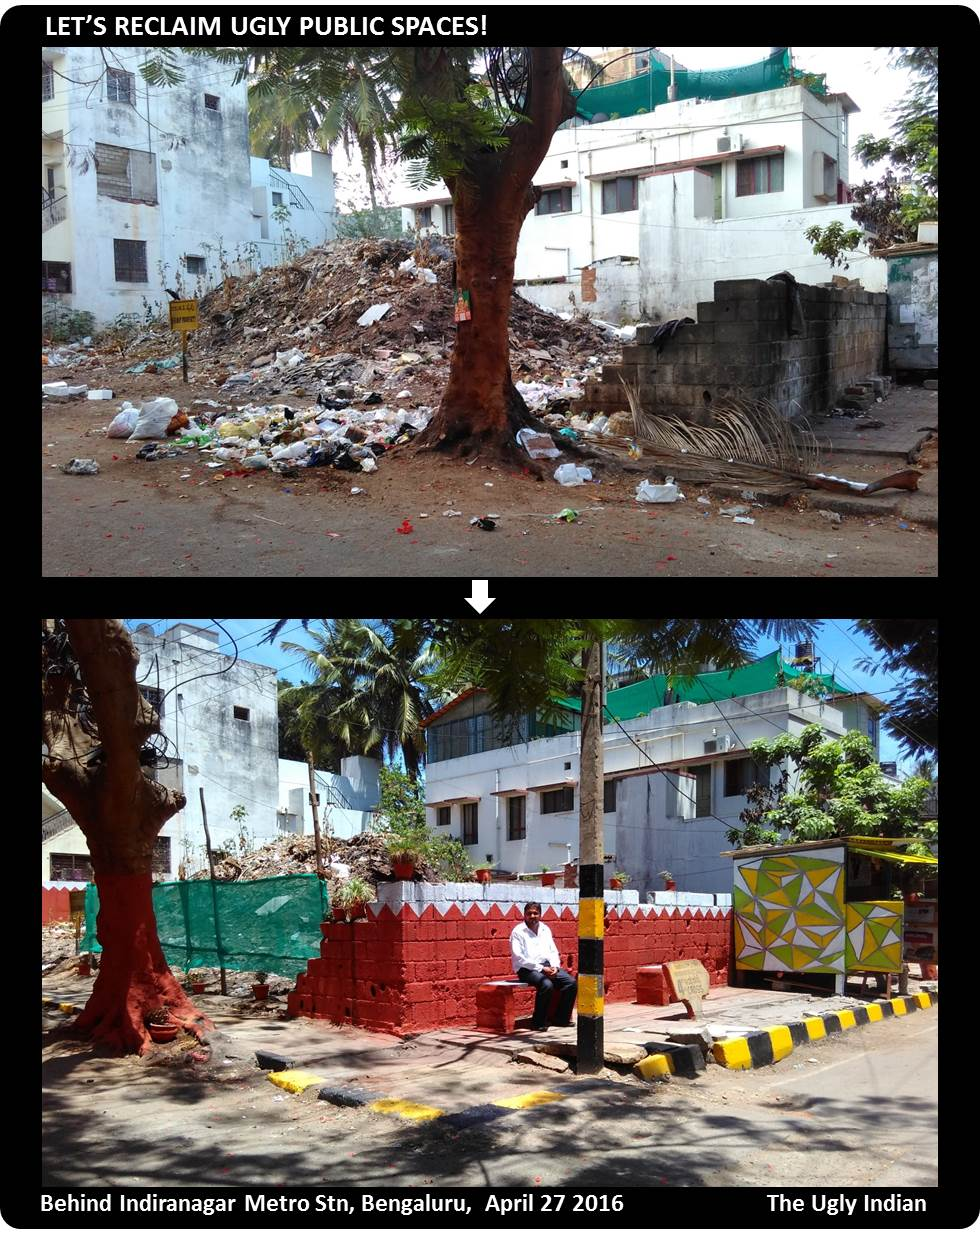BAD: (152, 211, 461, 391), (258, 236, 402, 510), (105, 390, 405, 486), (279, 367, 442, 502), (526, 363, 633, 511), (233, 329, 434, 404)
Good: (53, 968, 929, 1175), (218, 991, 576, 1196), (618, 974, 946, 1181)
Household : General: (272, 424, 397, 488), (114, 398, 181, 445), (548, 454, 601, 487), (58, 454, 102, 477)
